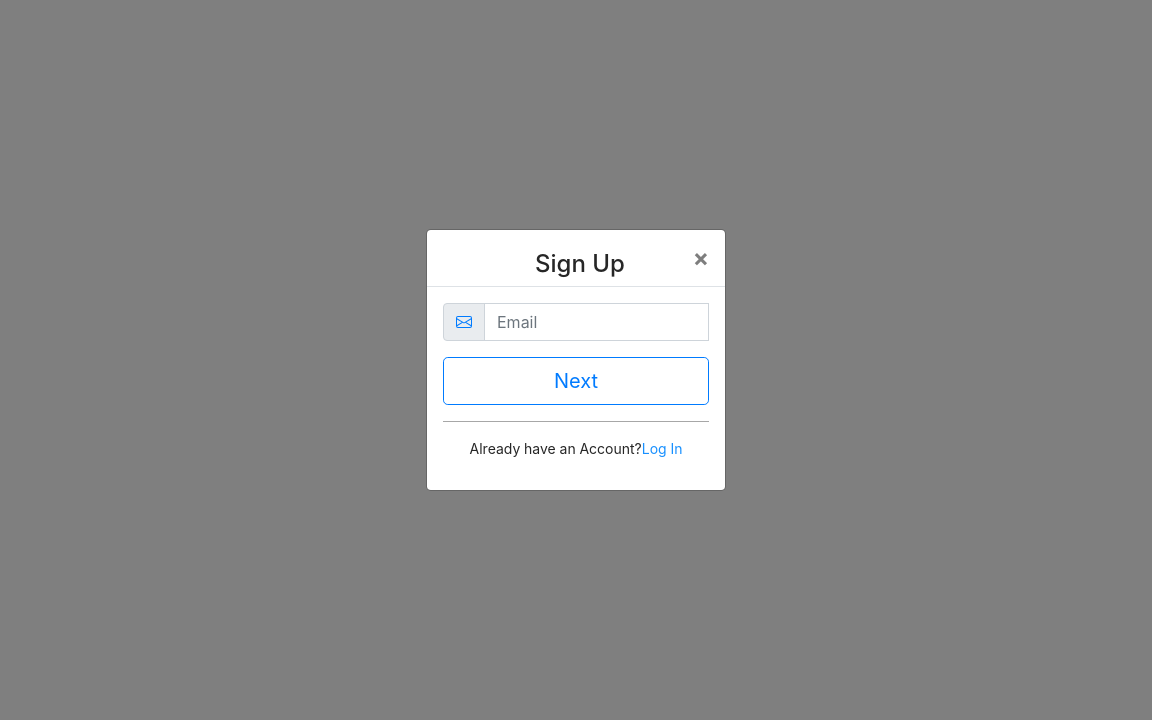
Test: signup page tests › entered valid new Email as input
Type "9knight9n@gmail.com" into the field with placeholder "Email" at (596, 322), box [484,303,709,341]
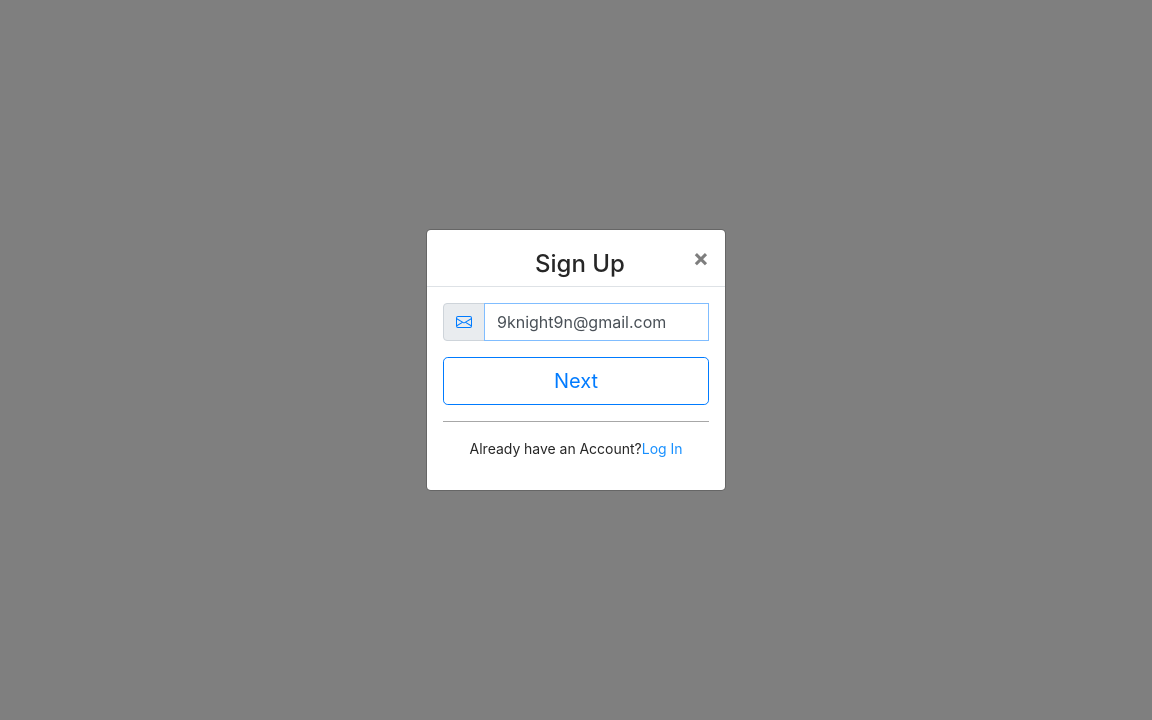
Click the button "Next" at (576, 381), box [443,357,709,405]
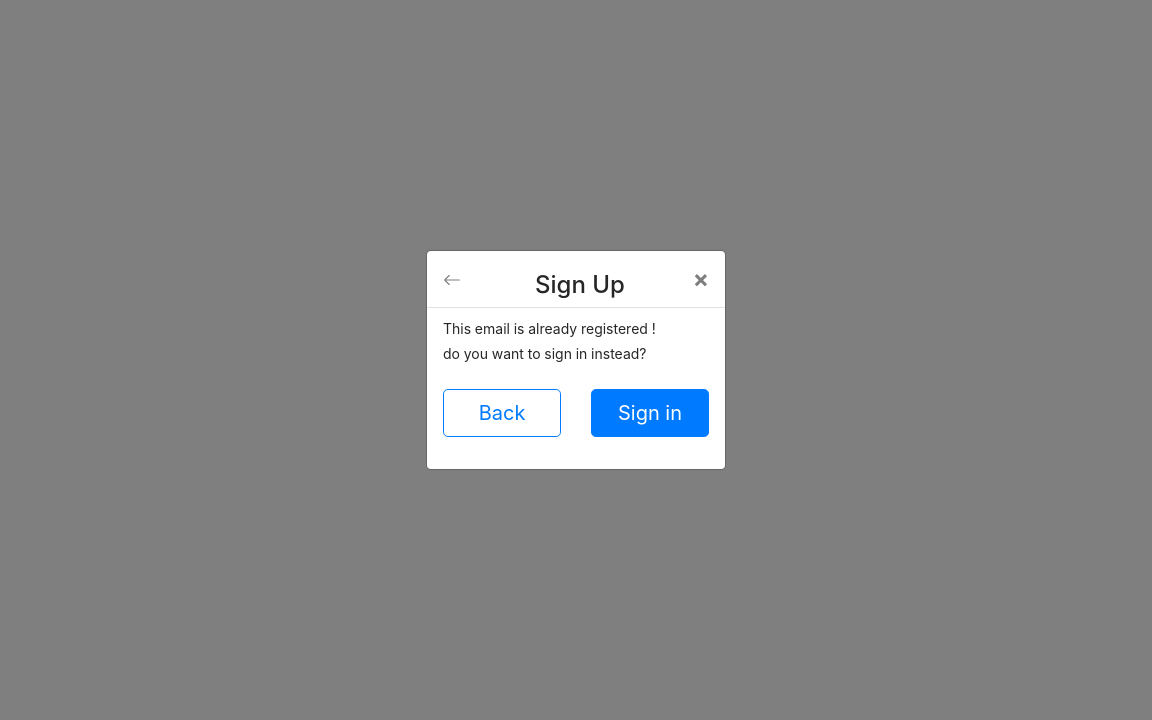
Expected: the button "Sign in" is shown, [591,389,709,437]
